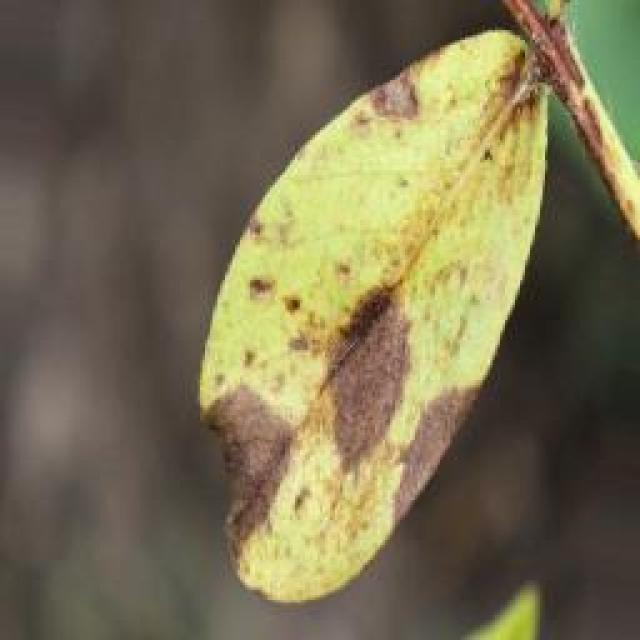Yellowish: (127, 37, 551, 598)
